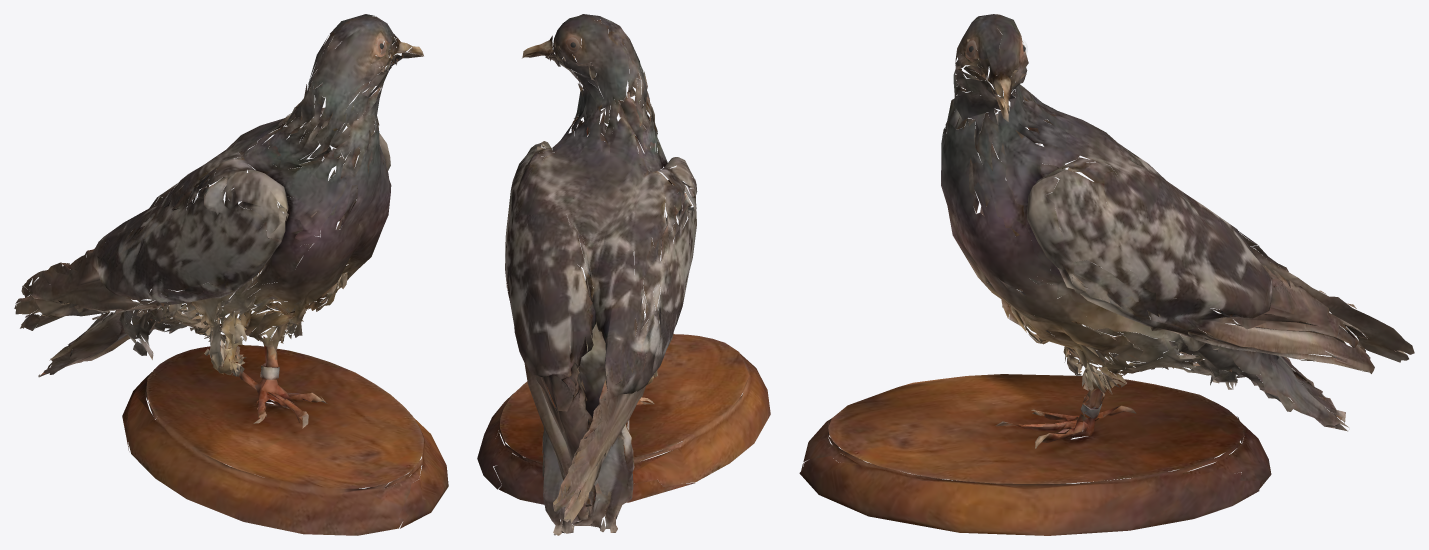
The model's file is si_cher_ami_pigeon.gltf.
The picture shows the model from 3 angles, left to right: view 1: azimuth 30°, elevation 25°; view 2: azimuth 150°, elevation 25°; view 3: azimuth 270°, elevation 25°; orthographic projection. The views are drawn at different scales.
Visible parts, largest first — view 1: cher_ami; view 2: cher_ami; view 3: cher_ami.
Part boxes in pixels (x1,y1,x2,y2): cher_ami: (14, 14, 448, 535); cher_ami: (477, 14, 770, 535); cher_ami: (799, 14, 1414, 535).
Bounding box in the file's own units: 0.1387 × 0.2301 × 0.2667.
3 materials, 3 textured.
